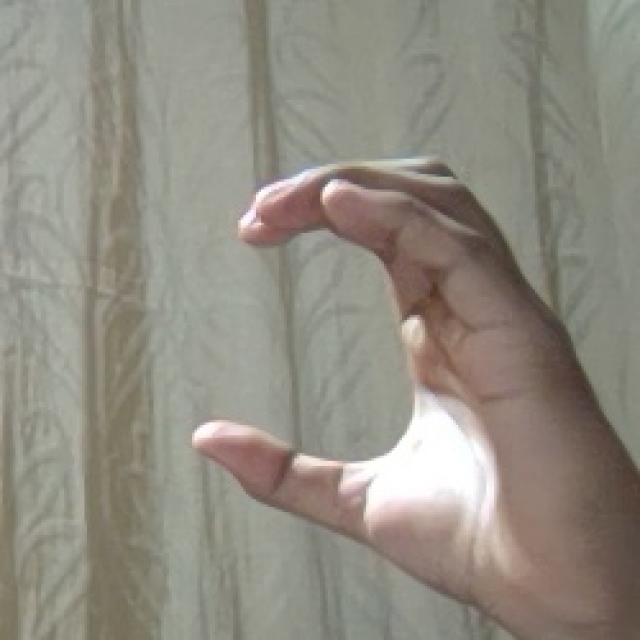Alphabet-C: (195, 159, 640, 640)
